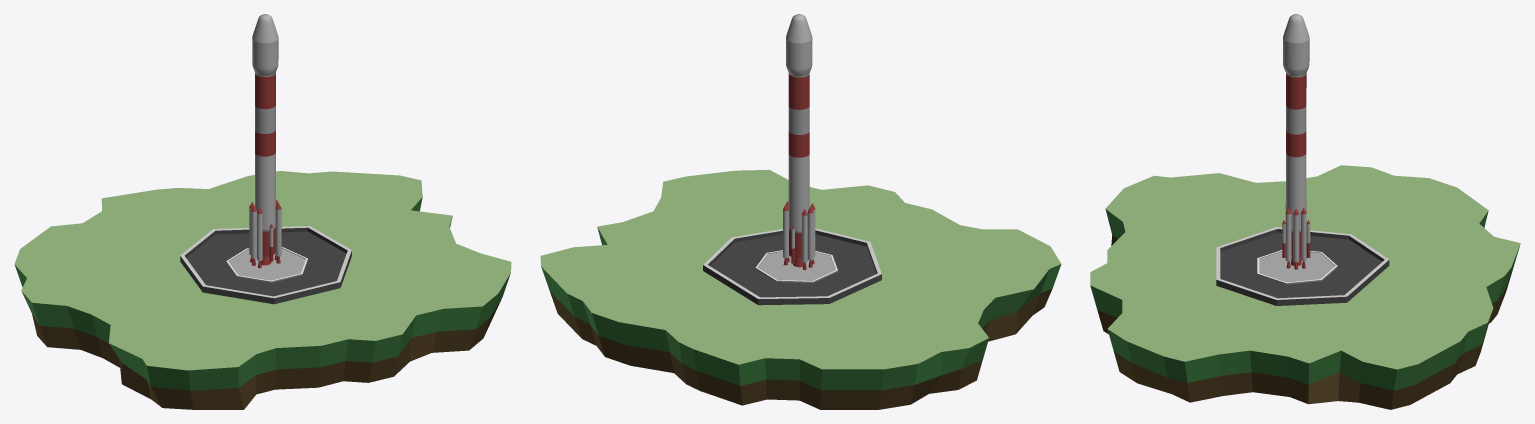
The model's file is PSLV.gltf.
3 renders of one model, left to right at view 1: azimuth 30°, elevation 25°; view 2: azimuth 150°, elevation 25°; view 3: azimuth 270°, elevation 25°, orthographic.
Visible parts, largest first — view 1: Plane, Circle, Cylinder.003, Cylinder.001; view 2: Plane, Circle, Cylinder.003, Cylinder.001; view 3: Plane, Circle, Cylinder.003, Cylinder.001.
Boxes of the visible parts, bbox=[...] form: Plane: bbox=[14, 171, 511, 409]; Circle: bbox=[180, 226, 351, 304]; Cylinder.003: bbox=[252, 14, 278, 265]; Cylinder.001: bbox=[226, 247, 307, 282]; Plane: bbox=[540, 169, 1061, 409]; Circle: bbox=[703, 228, 881, 305]; Cylinder.003: bbox=[786, 14, 812, 267]; Cylinder.001: bbox=[755, 250, 837, 282]; Plane: bbox=[1090, 165, 1520, 409]; Circle: bbox=[1216, 227, 1389, 305]; Cylinder.003: bbox=[1283, 14, 1309, 266]; Cylinder.001: bbox=[1257, 250, 1337, 284].
Bounding box in the file's own units: 8.06 × 5.53 × 7.18.
